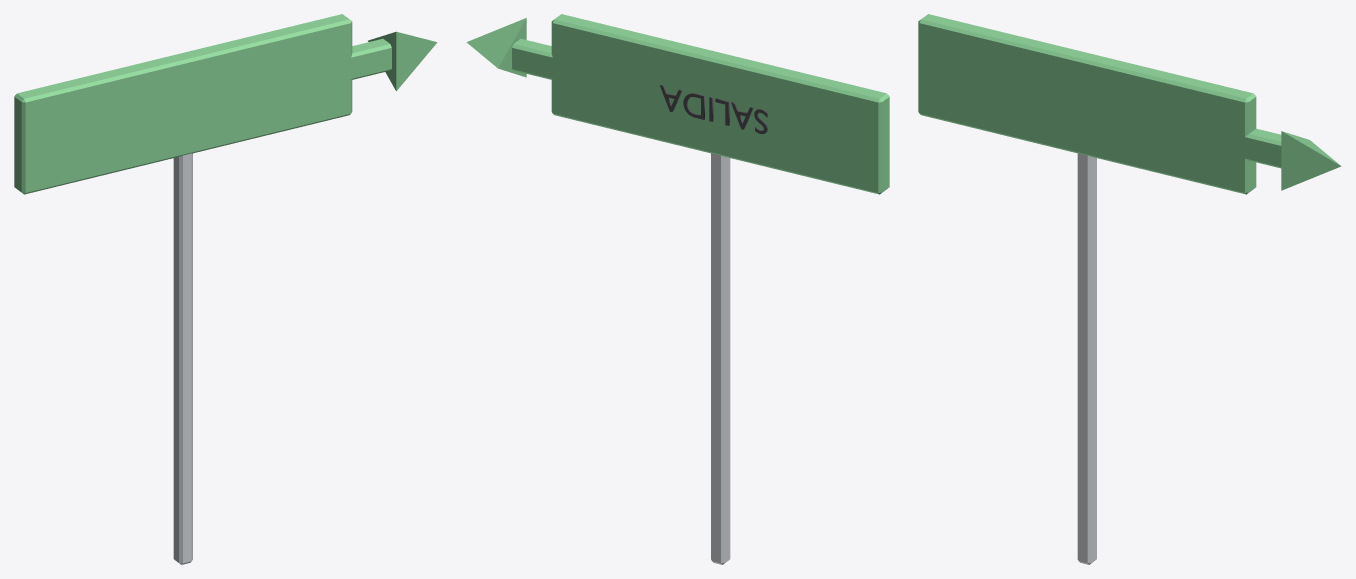
The model's file is Senal_Salida.fbx.
3 renders of one model, left to right at view 1: azimuth 30°, elevation 25°; view 2: azimuth 150°, elevation 25°; view 3: azimuth 330°, elevation 25°, orthographic.
Visible parts, largest first — view 1: Senal_Salida | Panel senal, Senal_Salida | Poste senal, Senal_Salida | Punta flecha, Senal_Salida | Flecha; view 2: Senal_Salida | Panel senal, Senal_Salida | Poste senal, Senal_Salida | Punta flecha, Senal_Salida | Flecha, Senal_Salida | Texto senal; view 3: Senal_Salida | Panel senal, Senal_Salida | Poste senal, Senal_Salida | Punta flecha, Senal_Salida | Flecha.
Boxes of the visible parts, left/top/right/bottom form: Senal_Salida | Panel senal: left=14, top=14, right=352, bottom=194; Senal_Salida | Poste senal: left=173, top=153, right=192, bottom=564; Senal_Salida | Punta flecha: left=368, top=31, right=437, bottom=91; Senal_Salida | Flecha: left=346, top=38, right=391, bottom=79; Senal_Salida | Panel senal: left=551, top=14, right=889, bottom=194; Senal_Salida | Poste senal: left=711, top=153, right=730, bottom=564; Senal_Salida | Punta flecha: left=466, top=18, right=526, bottom=77; Senal_Salida | Flecha: left=512, top=38, right=557, bottom=79; Senal_Salida | Texto senal: left=660, top=85, right=767, bottom=133; Senal_Salida | Panel senal: left=918, top=14, right=1256, bottom=194; Senal_Salida | Poste senal: left=1077, top=153, right=1096, bottom=564; Senal_Salida | Punta flecha: left=1281, top=131, right=1341, bottom=190; Senal_Salida | Flecha: left=1240, top=128, right=1281, bottom=168.
Size of the model in its own units: 1.65 by 1.9 by 0.195.
